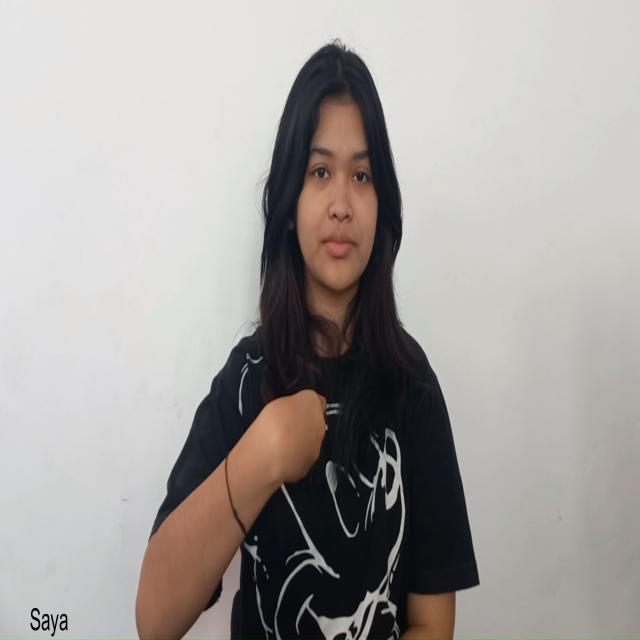Saya -BISINDO-: (252, 379, 331, 507)
